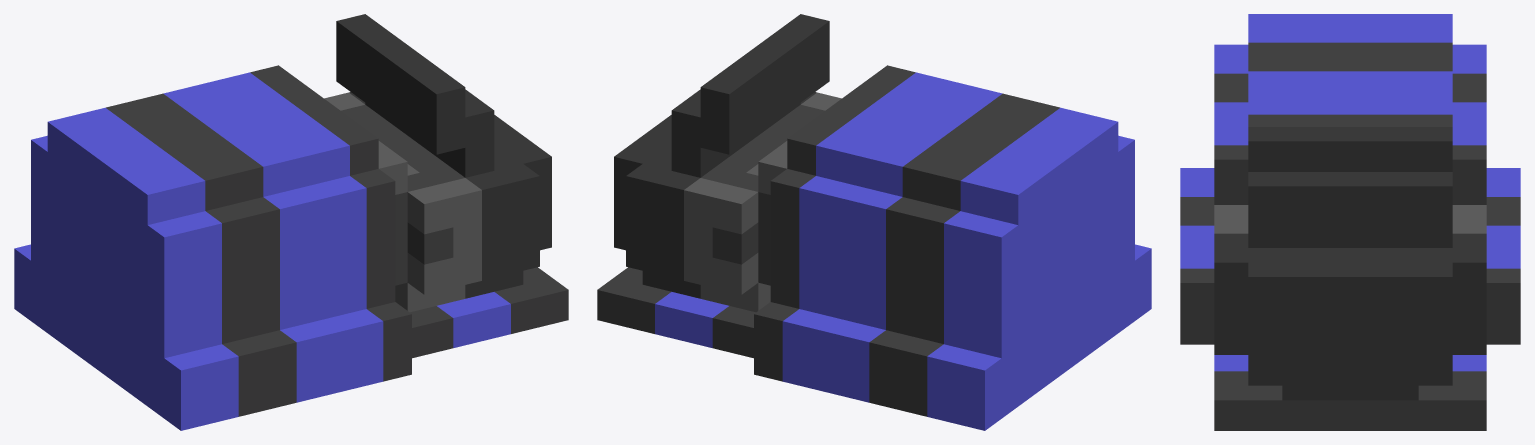
The model's file is chr_bedroll2.obj.
3 renders of one model, left to right at view 1: azimuth 30°, elevation 25°; view 2: azimuth 150°, elevation 25°; view 3: azimuth 270°, elevation 25°, orthographic.
Size of the model in its own units: 14 by 8 by 10.
